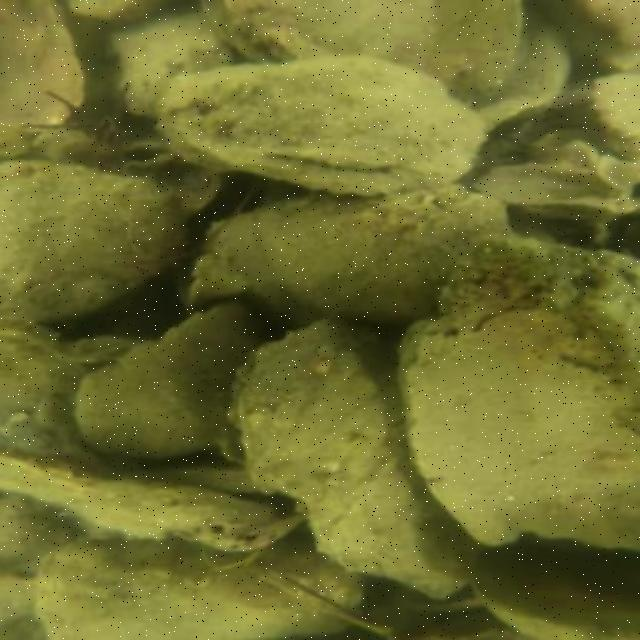Oyster-Closed: (233, 320, 479, 602), (400, 288, 640, 561), (154, 47, 485, 198), (208, 192, 519, 330), (1, 444, 308, 557), (36, 537, 368, 640), (200, 0, 532, 100), (0, 161, 192, 326), (76, 296, 268, 460), (436, 234, 640, 362), (469, 554, 640, 640), (111, 4, 234, 120), (0, 0, 85, 134), (591, 72, 640, 159)
